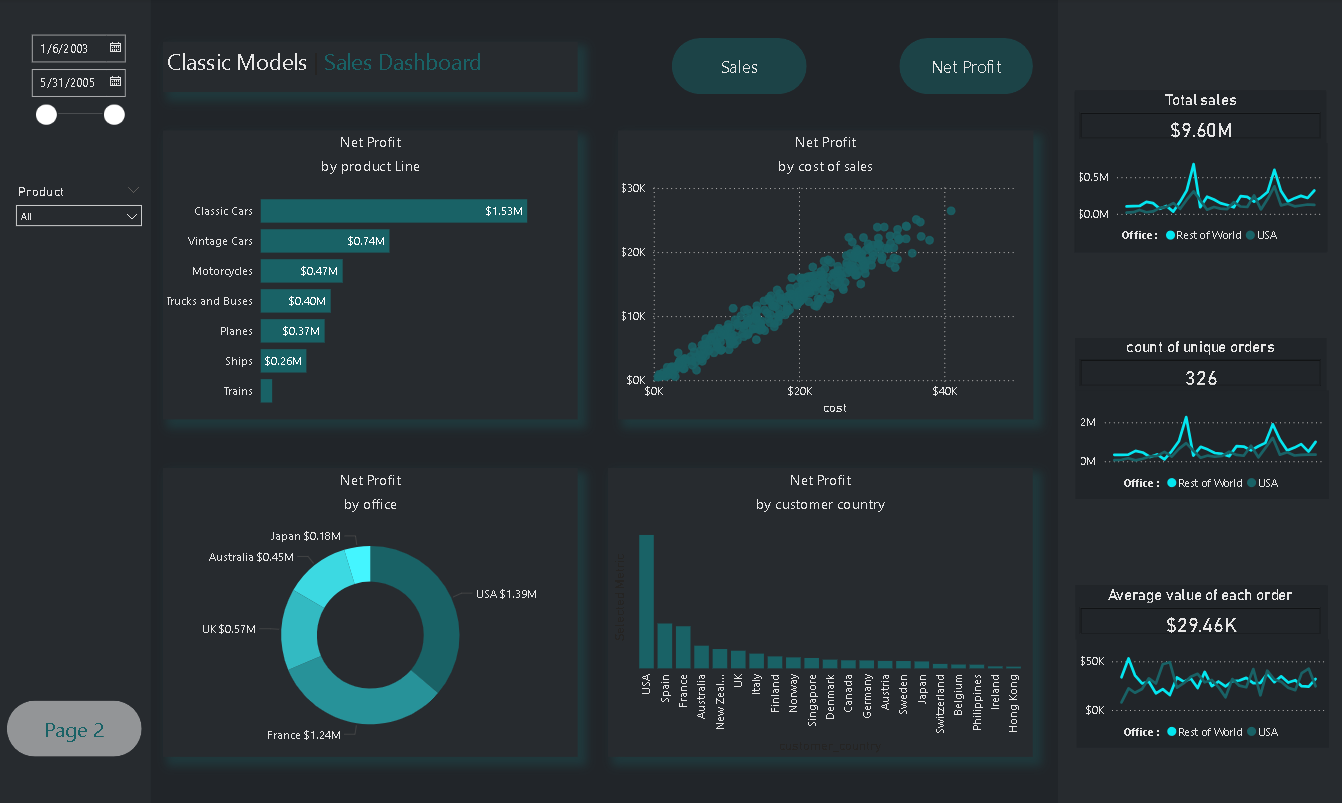

This screenshot's page, from the dashboard's own definition file:
{"tool":"powerbi","page":{"name":"SALES OVERVIEW PAGE-1","canvas":[1500,900],"ordinal":0},"visuals":[{"type":"shape","box":[0,0,170,900.3],"z":0},{"type":"shape","box":[1180,0,320,900.3],"z":1000},{"type":"shape","box":[1198.5,103.8,280.8,179.1],"z":2000},{"type":"shape","box":[1200.8,654,279.7,179.5],"z":3000},{"type":"shape","box":[1199.4,378.5,279.7,179.5],"z":4000},{"type":"cardVisual","title":"Total sales","fields":{"Data":["Sum(classicmodels sales_data_for_power_bi.sales_value)"]},"box":[1199.4,103,278.3,58.4],"z":5000},{"type":"cardVisual","title":"Average value of each order","fields":{"Data":["classicmodels sales_data_for_power_bi.Average Sales Value per Order"]},"box":[1199.4,654,278.3,59.8],"z":6000},{"type":"cardVisual","title":"count of unique orders","fields":{"Data":["Count(classicmodels sales_data_for_power_bi.ordernumber)"]},"box":[1199.4,378.5,278.3,58.4],"z":7000},{"type":"lineChart","fields":{"Y":["Sum(classicmodels sales_data_for_power_bi.sales_value)"],"Series":["classicmodels sales_data_for_power_bi.Office Grouped"],"Category":["classicmodels sales_data_for_power_bi.orderdate.Variation.Date Hierarchy.Year","classicmodels sales_data_for_power_bi.orderdate.Variation.Date Hierarchy.Quarter","classicmodels sales_data_for_power_bi.orderdate.Variation.Date Hierarchy.Month"]},"box":[1199.4,161.4,281.1,121.1],"z":8000},{"type":"lineChart","fields":{"Series":["classicmodels sales_data_for_power_bi.Office Grouped"],"Category":["classicmodels sales_data_for_power_bi.orderdate.Variation.Date Hierarchy.Year","classicmodels sales_data_for_power_bi.orderdate.Variation.Date Hierarchy.Quarter","classicmodels sales_data_for_power_bi.orderdate.Variation.Date Hierarchy.Month"],"Y":["classicmodels sales_data_for_power_bi.Average Sales Value per Order"]},"box":[1200.8,713.8,281.1,121.1],"z":9000},{"type":"lineChart","fields":{"Series":["classicmodels sales_data_for_power_bi.Office Grouped"],"Category":["classicmodels sales_data_for_power_bi.orderdate.Variation.Date Hierarchy.Year","classicmodels sales_data_for_power_bi.orderdate.Variation.Date Hierarchy.Quarter","classicmodels sales_data_for_power_bi.orderdate.Variation.Date Hierarchy.Month"],"Y":["Sum(classicmodels sales_data_for_power_bi.ordernumber)"]},"box":[1200.8,436.9,281.1,121.1],"z":10000},{"type":"clusteredBarChart","fields":{"Category":["classicmodels sales_data_for_power_bi.productLine"],"Y":["Table.Selected Metric"]},"box":[183.7,147.5,462,321.4],"z":11000},{"type":"actionButton","box":[750,44.5,150.3,62.6],"z":12000},{"type":"actionButton","box":[1003.3,44.5,148.9,62.6],"z":13000},{"type":"scatterChart","fields":{"X":["Sum(classicmodels sales_data_for_power_bi.cost_of_sales)"],"Y":["Table.Selected Metric"],"Category":["classicmodels sales_data_for_power_bi.ordernumber"]},"box":[690.8,148,462.4,321.4],"z":15000},{"type":"donutChart","fields":{"Y":["Table.Selected Metric"],"Category":["classicmodels sales_data_for_power_bi.office_country"]},"box":[183.7,523.2,462,321.4],"z":16000},{"type":"clusteredColumnChart","fields":{"Category":["classicmodels sales_data_for_power_bi.customer_country"],"Y":["Table.Selected Metric"]},"box":[679,523.2,473.1,321.4],"z":17000},{"type":"textbox","box":[183.7,48.7,462,55.7],"z":17001},{"type":"actionButton","box":[9.7,782,150.3,62.6],"z":17002},{"type":"slicer","fields":{"Values":["classicmodels sales_data_for_power_bi.orderdate"]},"box":[25,30.6,125.2,162.8],"z":17003},{"type":"slicer","fields":{"Values":["classicmodels sales_data_for_power_bi.productName"]},"box":[9.7,201.8,160,162.8],"z":17004}]}

Visuals, with their boxes in screenshot pixels (x1, y1, x2, y2), scaled from the page's 1500x900 canvas onto the 1342x803 screenshot:
shape: (x1=0, y1=0, x2=152, y2=802)
shape: (x1=1056, y1=0, x2=1341, y2=802)
shape: (x1=1072, y1=93, x2=1323, y2=252)
shape: (x1=1074, y1=584, x2=1325, y2=744)
shape: (x1=1073, y1=338, x2=1323, y2=498)
"Total sales" cardVisual: (x1=1073, y1=92, x2=1322, y2=144)
"Average value of each order" cardVisual: (x1=1073, y1=584, x2=1322, y2=637)
"count of unique orders" cardVisual: (x1=1073, y1=338, x2=1322, y2=390)
lineChart - Sum(classicmodels sales_data_for_power_bi.sales_value) x classicmodels sales_data_for_power_bi.Office Grouped: (x1=1073, y1=144, x2=1325, y2=252)
lineChart - classicmodels sales_data_for_power_bi.Office Grouped x classicmodels sales_data_for_power_bi.orderdate.Variation.Date Hierarchy.Year: (x1=1074, y1=637, x2=1326, y2=745)
lineChart - classicmodels sales_data_for_power_bi.Office Grouped x classicmodels sales_data_for_power_bi.orderdate.Variation.Date Hierarchy.Year: (x1=1074, y1=390, x2=1326, y2=498)
clusteredBarChart - classicmodels sales_data_for_power_bi.productLine x Table.Selected Metric: (x1=164, y1=132, x2=578, y2=418)
actionButton: (x1=671, y1=40, x2=805, y2=96)
actionButton: (x1=898, y1=40, x2=1031, y2=96)
scatterChart - Sum(classicmodels sales_data_for_power_bi.cost_of_sales) x Table.Selected Metric: (x1=618, y1=132, x2=1032, y2=419)
donutChart - Table.Selected Metric x classicmodels sales_data_for_power_bi.office_country: (x1=164, y1=467, x2=578, y2=754)
clusteredColumnChart - classicmodels sales_data_for_power_bi.customer_country x Table.Selected Metric: (x1=607, y1=467, x2=1031, y2=754)
textbox: (x1=164, y1=43, x2=578, y2=93)
actionButton: (x1=9, y1=698, x2=143, y2=754)
slicer - classicmodels sales_data_for_power_bi.orderdate: (x1=22, y1=27, x2=134, y2=173)
slicer - classicmodels sales_data_for_power_bi.productName: (x1=9, y1=180, x2=152, y2=325)
